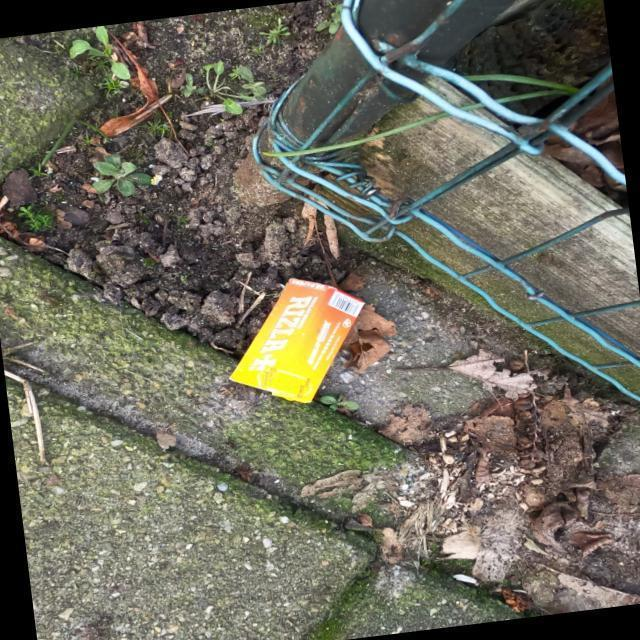Paper: (226, 274, 368, 406)
